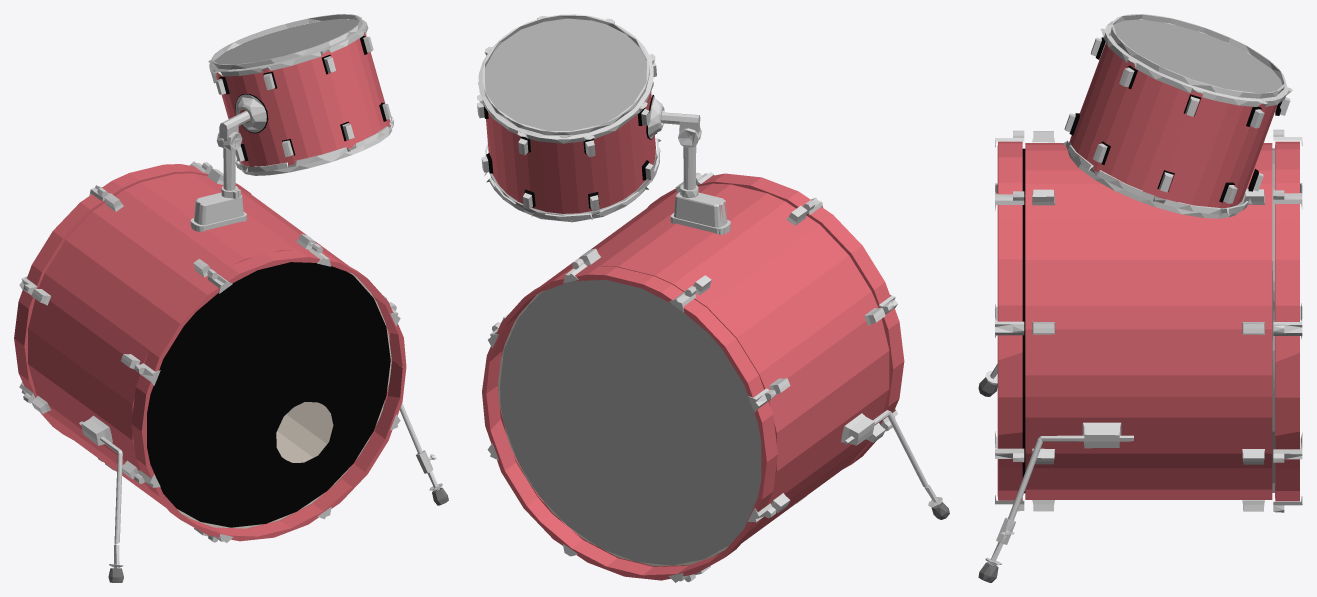
The model's file is kick.glb.
3 renders of one model, left to right at view 1: azimuth 30°, elevation 25°; view 2: azimuth 150°, elevation 25°; view 3: azimuth 270°, elevation 25°, orthographic. The views are drawn at different scales.
Visible parts, largest first — view 1: kick; view 2: kick; view 3: kick.
Boxes of the visible parts, x1,y1,x2,y2 form: kick: (14, 14, 448, 582); kick: (477, 14, 949, 582); kick: (978, 14, 1302, 582).
Bounding box in the file's own units: 4.53 × 5.42 × 3.06.
